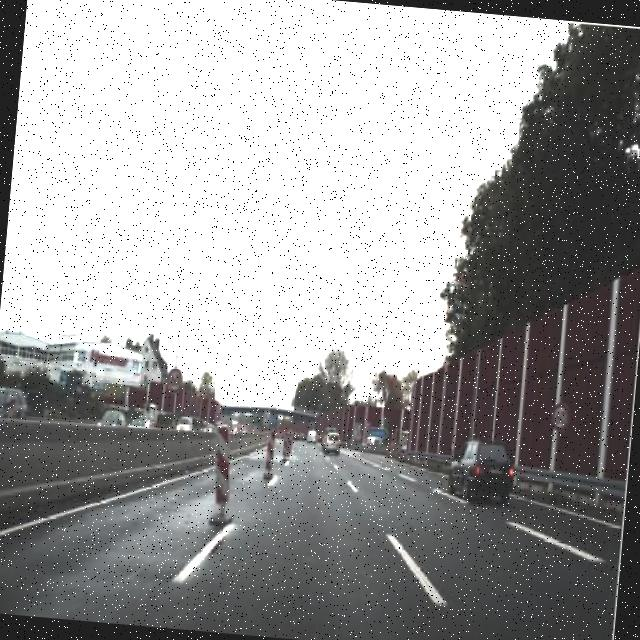Ograniczenie predkosci do 60: (548, 398, 572, 437), (163, 365, 184, 396)
